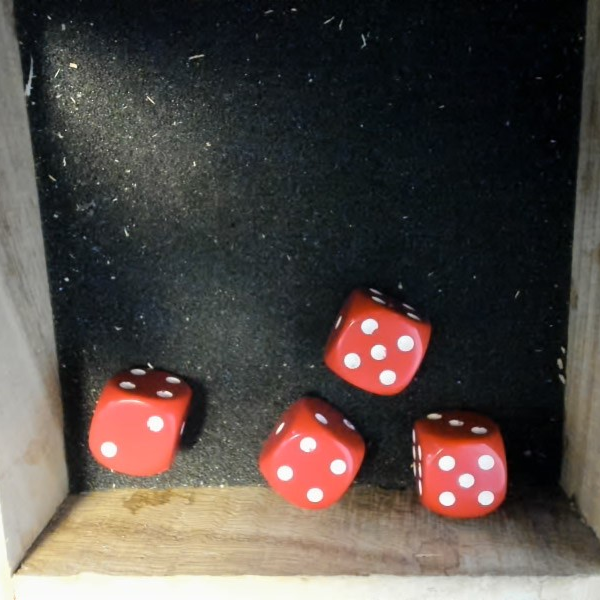red_die_pip2: (81, 354, 199, 484)
red_die_pip4: (246, 388, 385, 527)
red_die_pip5: (320, 284, 442, 407), (404, 414, 508, 520)
